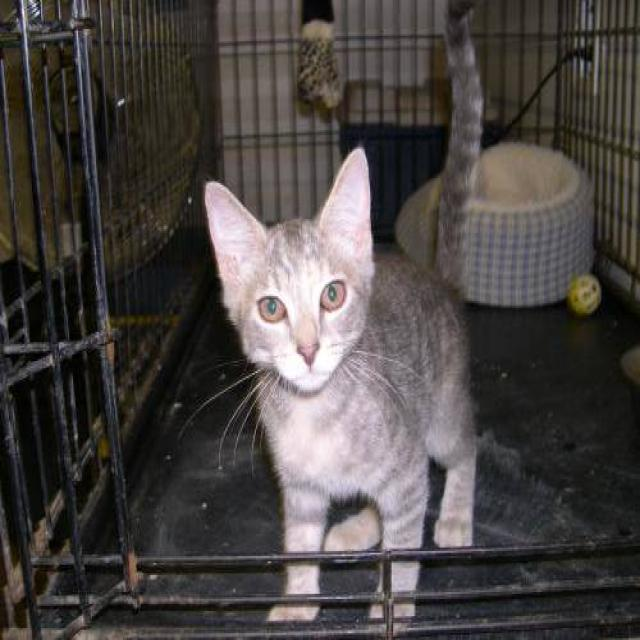cat: (150, 0, 524, 640)
